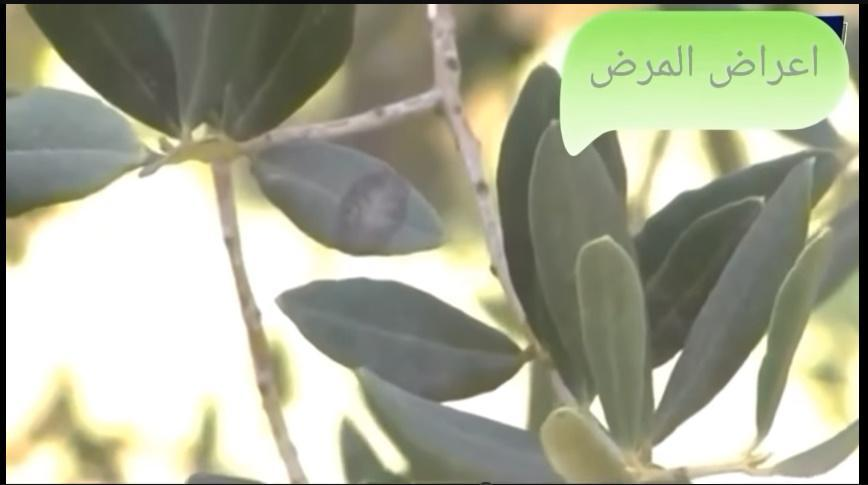OlivePeacockSpot: (250, 144, 454, 262)
